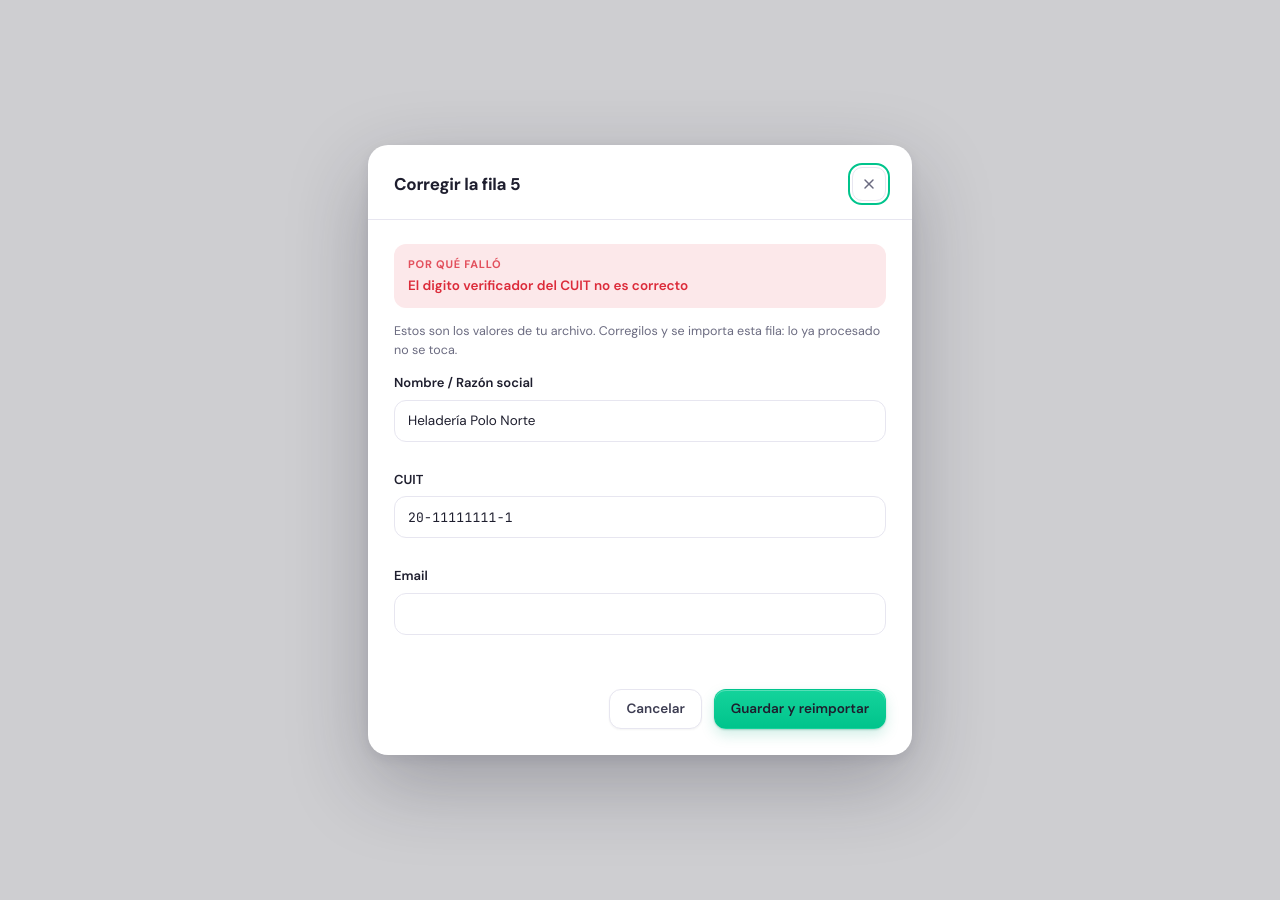
it: CorreccionDeFila › un rechazo se muestra en el mismo editor y no avisa a la pantalla
This screenshot has width=1280, height=900.
Expected: the field labelled "CUIT" is shown, [394,496,886,538]
Click the button "Guardar y reimportar". click: (800, 709)
box: [714,689,886,729]
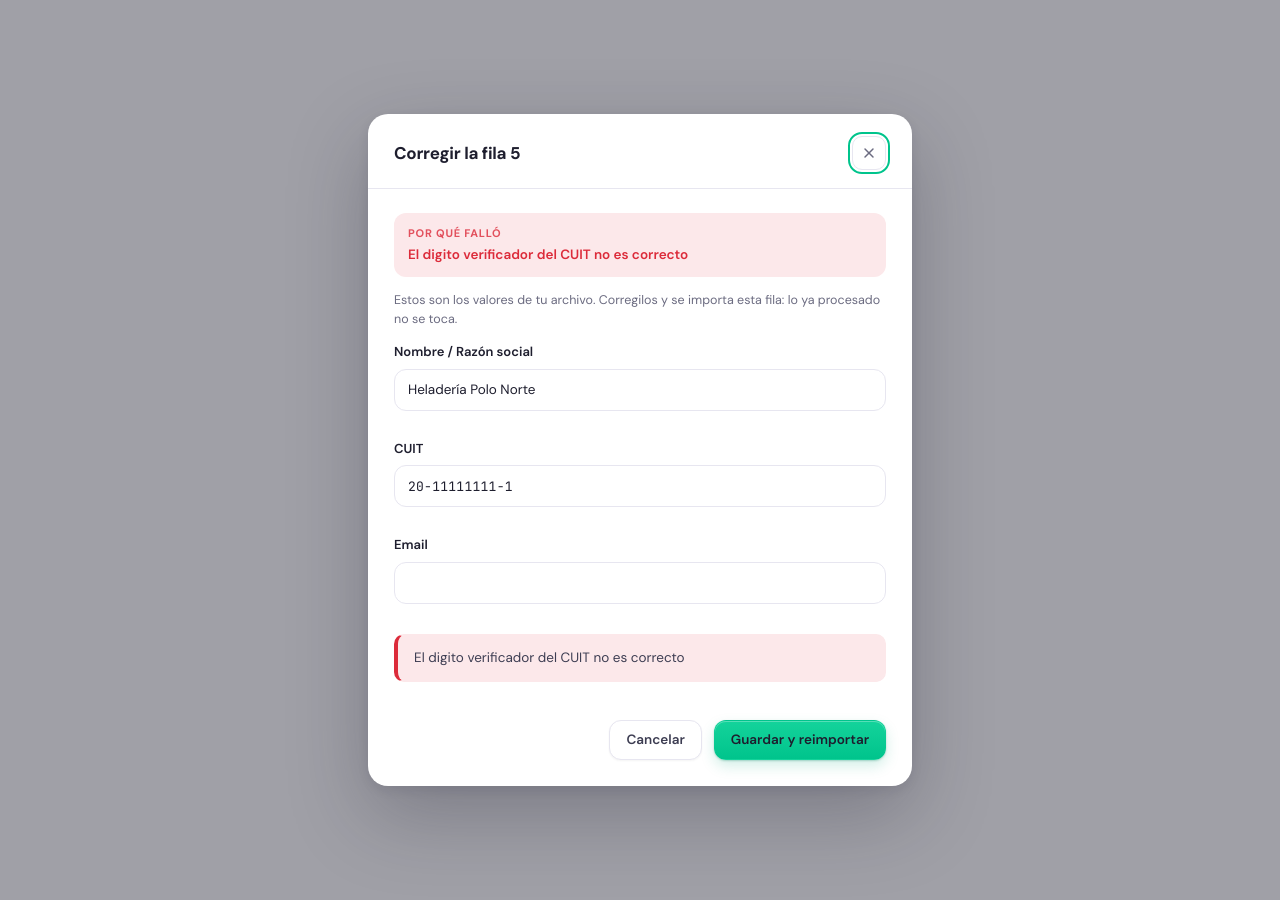
Expected: the field labelled "CUIT" is shown, [394,465,886,507]
Result: the message shows "digito verificador" at [414,649,684,666]
